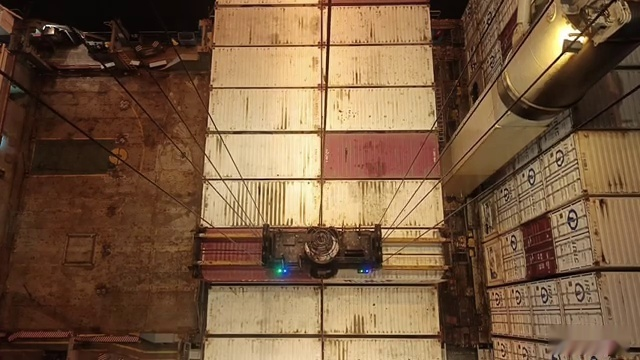container: (198, 226, 447, 285), (201, 179, 444, 229), (206, 285, 440, 335), (207, 88, 436, 134), (202, 134, 438, 178), (210, 47, 434, 87), (201, 336, 441, 360)
guide_mark: (107, 332, 520, 351), (79, 344, 554, 360)
spreader: (183, 215, 463, 276)
target_slot: (186, 221, 463, 284)
